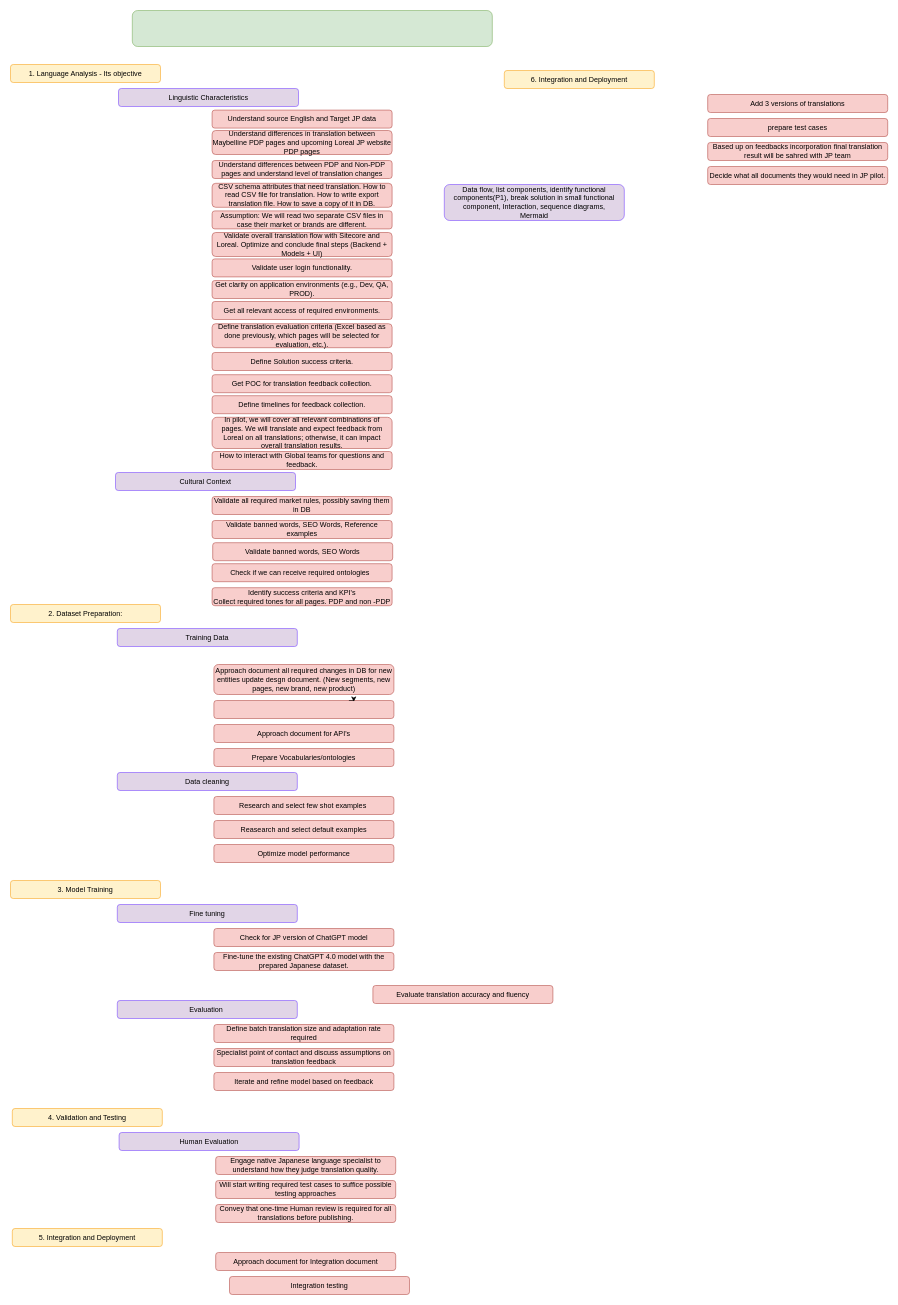
This 898x1305 diagram has some shape labels left out. Each missing label, with the box of its shape:
Approach document how localize knowledge will be captured in Vector DB: (213, 700, 394, 718)
LLM-Based Multilingual Translation Solution - JP: (132, 10, 492, 46)
